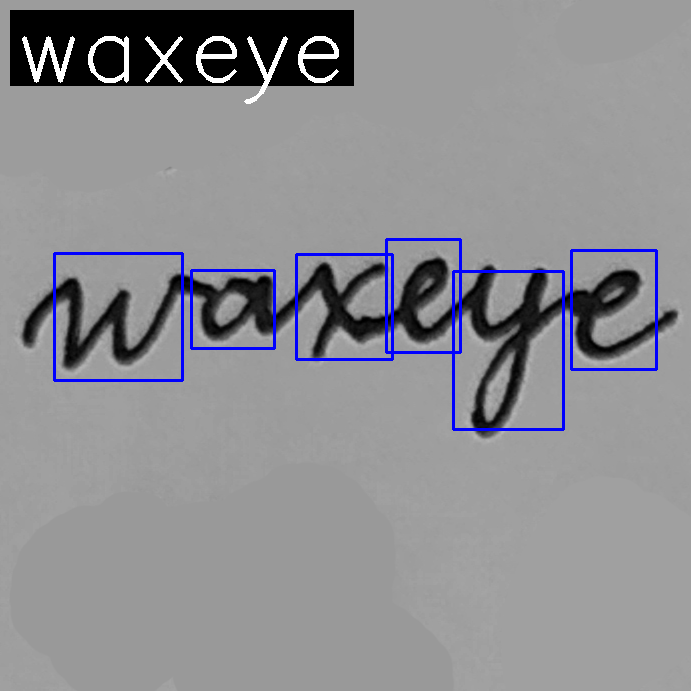a: (196, 267, 279, 347)
e: (570, 260, 682, 362), (396, 251, 454, 349)
w: (55, 266, 186, 373)
x: (295, 256, 393, 363)
y: (460, 256, 555, 444)
